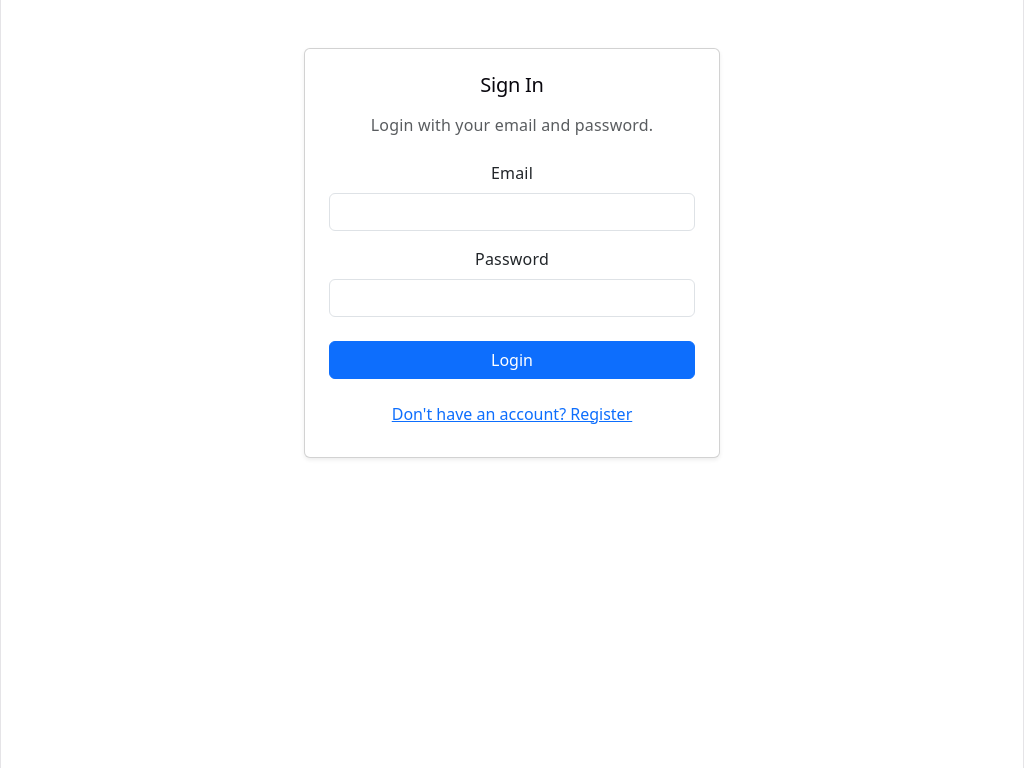
Test: AuthForm › displays an error alert when loginUser rejects
Type "bad@test.com" into the field labelled "Email" at (512, 212), box [329,193,695,231]
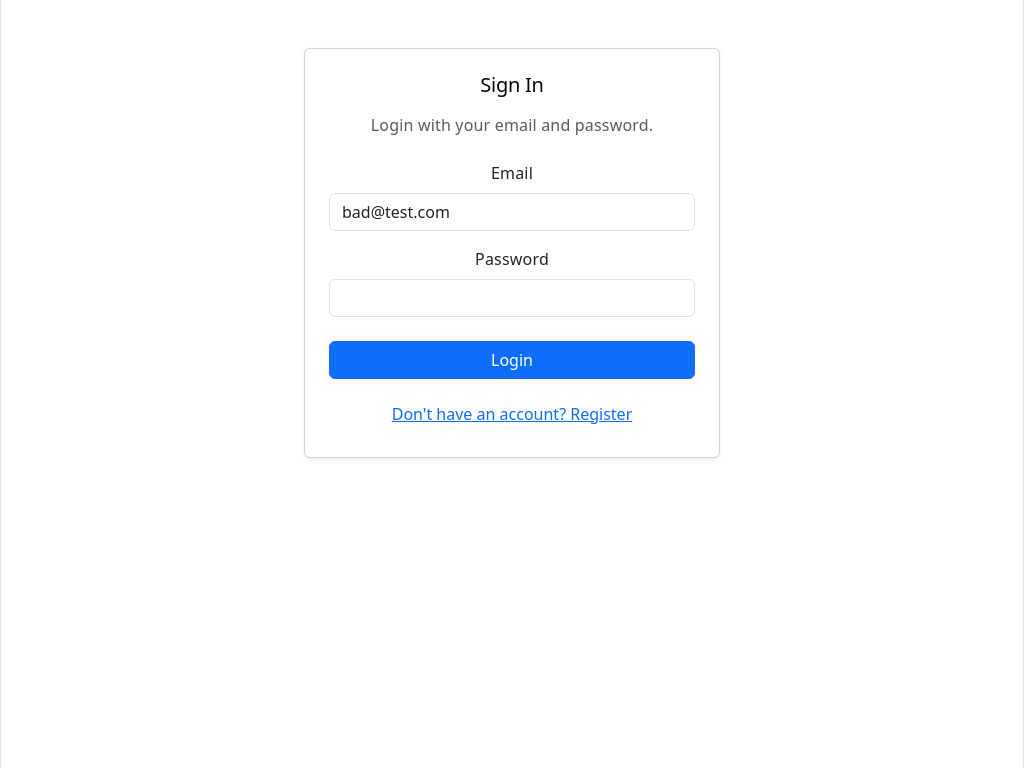
Type "wrongpass" into the password field labelled "Password" at (512, 298), box [329,279,695,317]
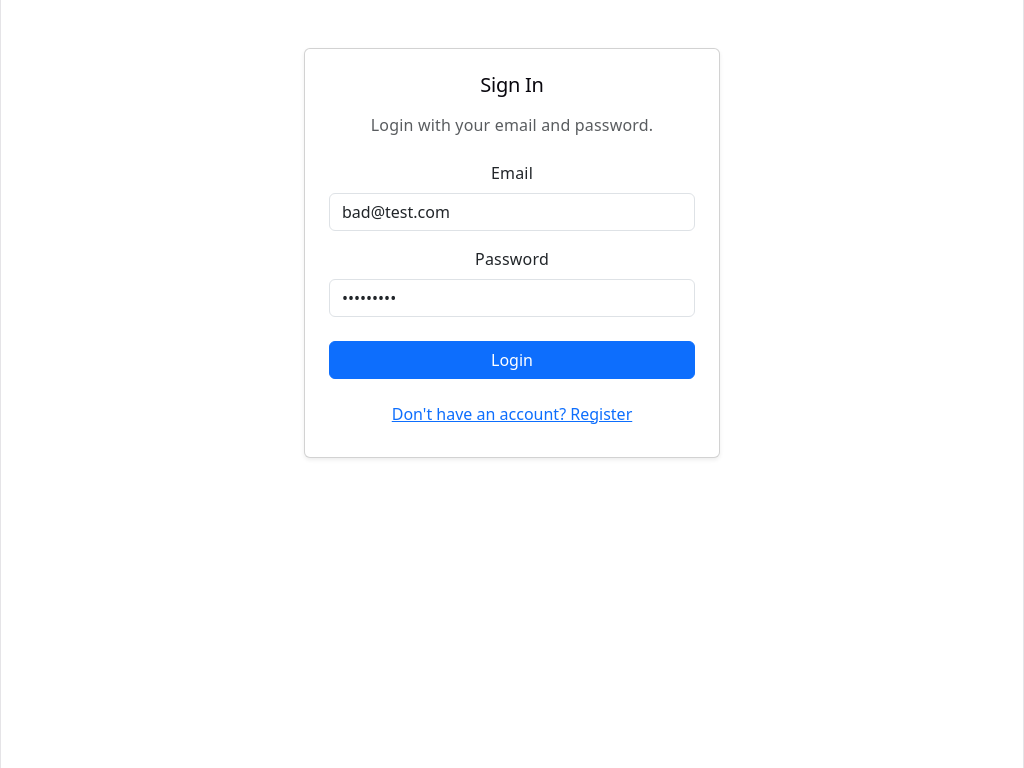
Click the button "Login" at (512, 360), box [329,341,695,379]
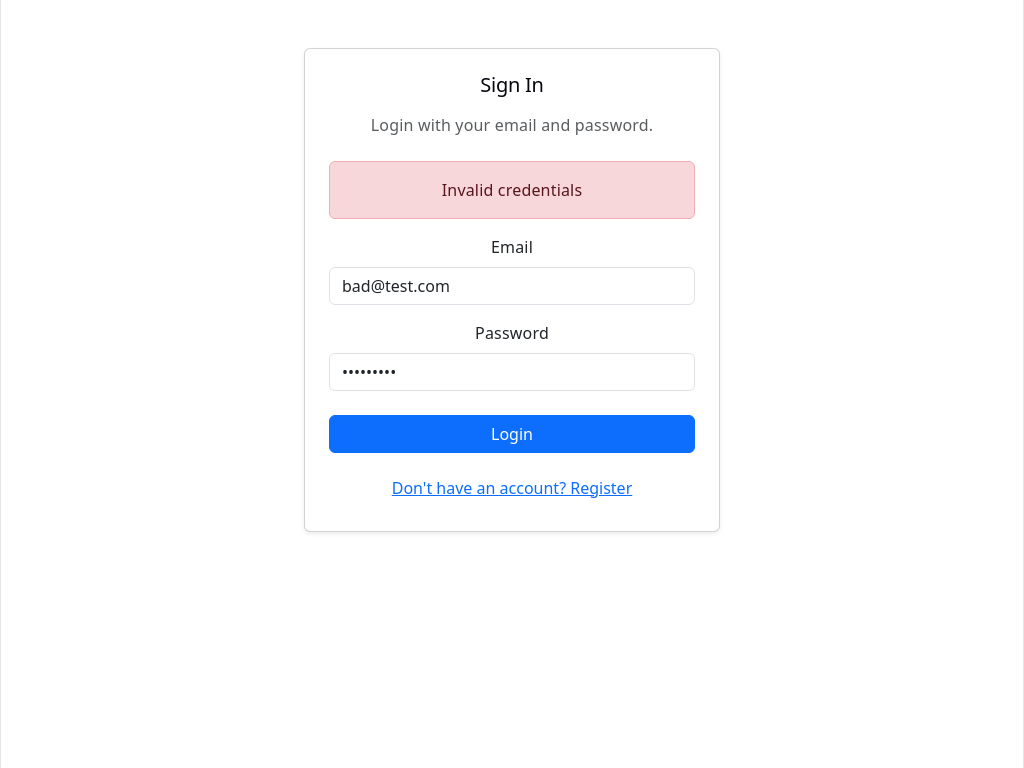
Check: the message reads "Invalid credentials", box [442,179,582,201]
